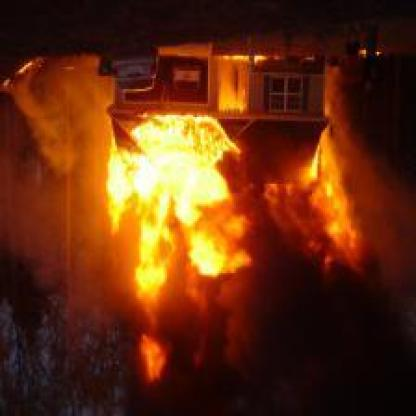Fire: (107, 112, 240, 287)
